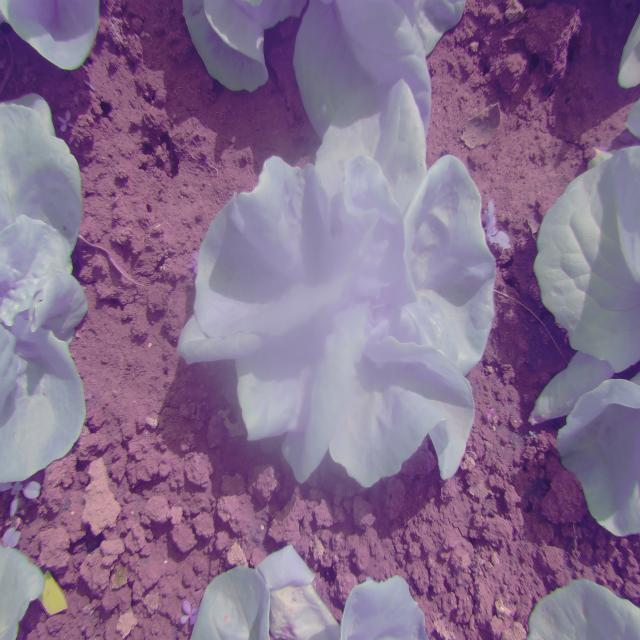vege: (174, 101, 501, 496)
